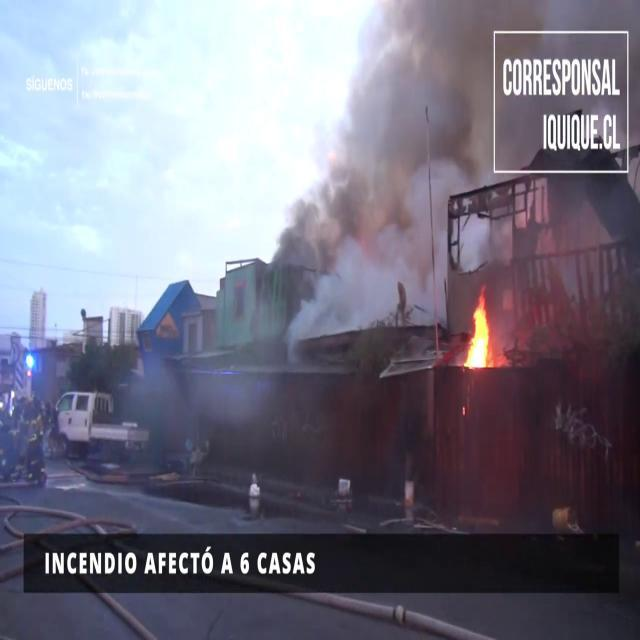Fire: (463, 290, 495, 370)
Smoke: (204, 0, 505, 354)
